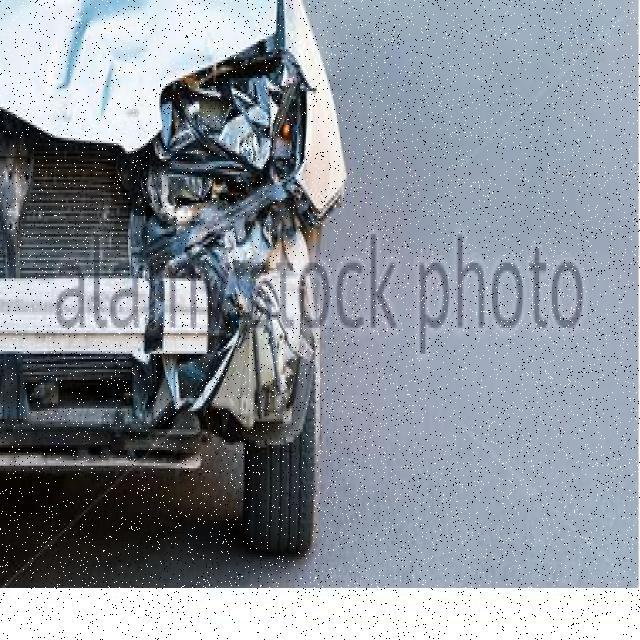bonnet-dent: (0, 5, 275, 159)
